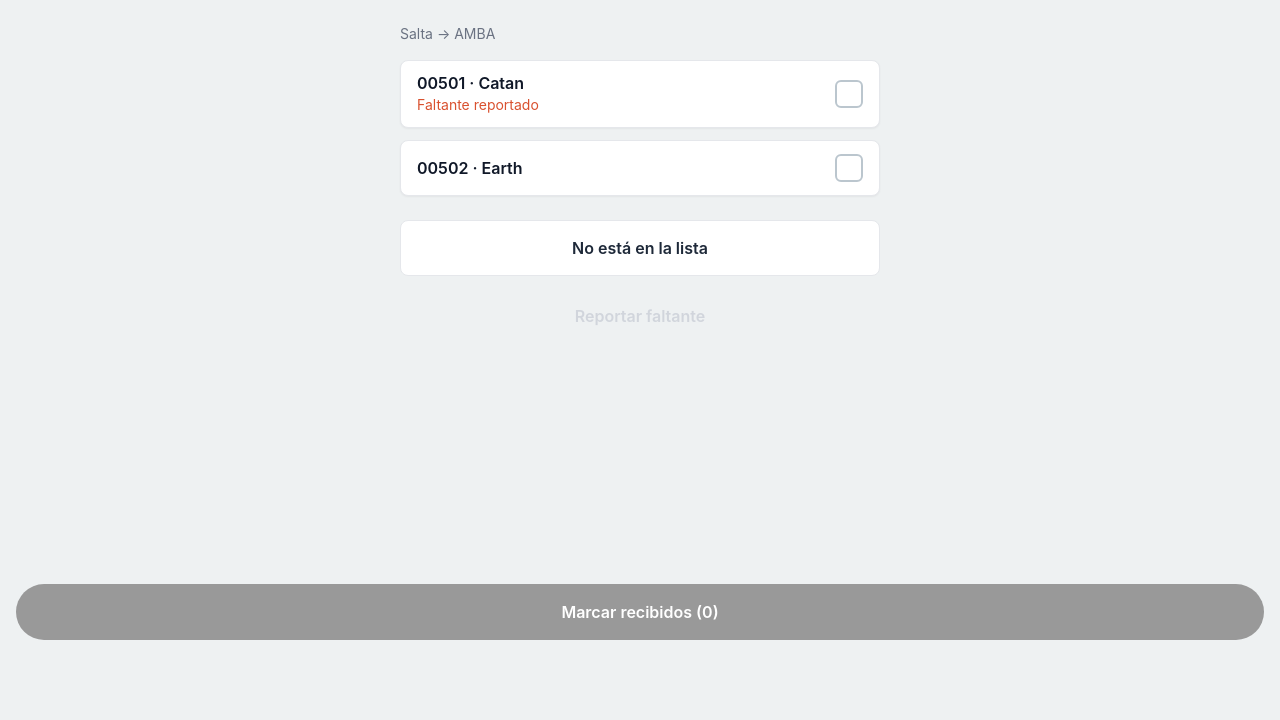
Scenario: IncomingBoxPage › shows reported-missing items as flagged but still selectable
Click the checkbox labelled "00501 · Catan Faltante reportado".
click(471, 83)  # box 400,60 -> 880,128
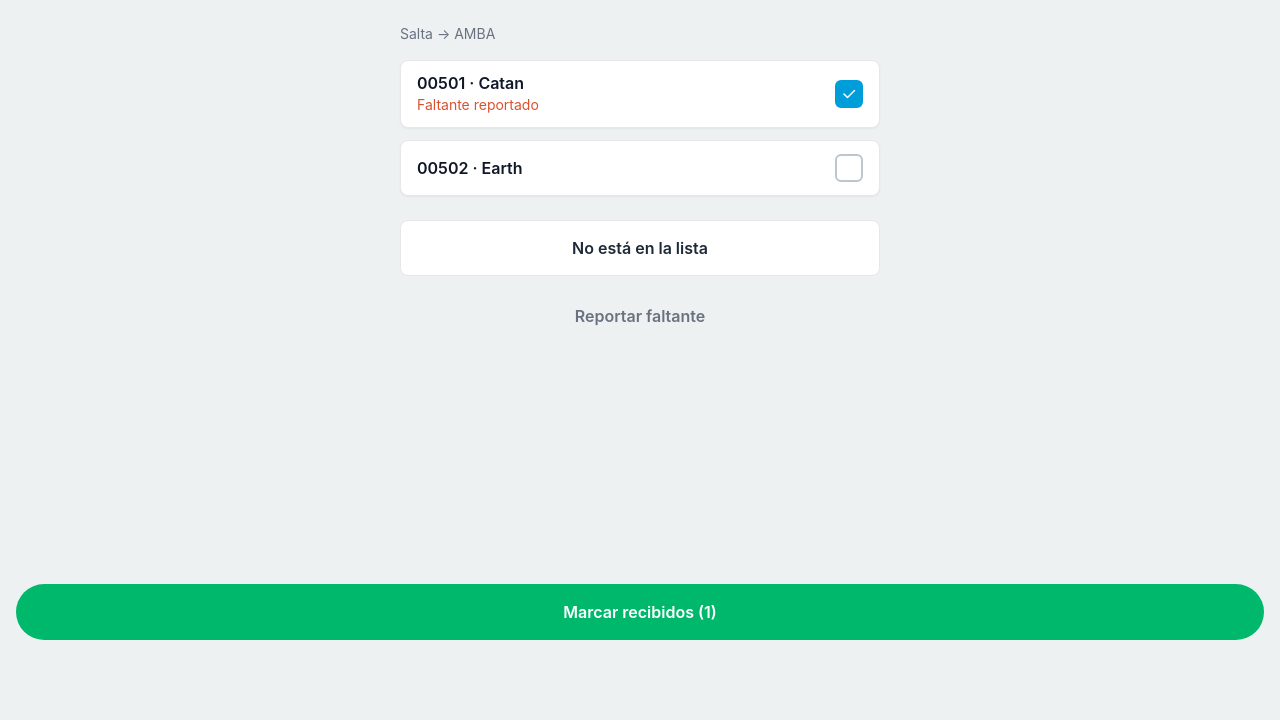
Expected: the checkbox labelled "00502 · Earth" does not show "Faltante reportado", 400,140 -> 880,196
Expected: the button "Marcar recibidos (1)" is enabled, 16,584 -> 1264,640
